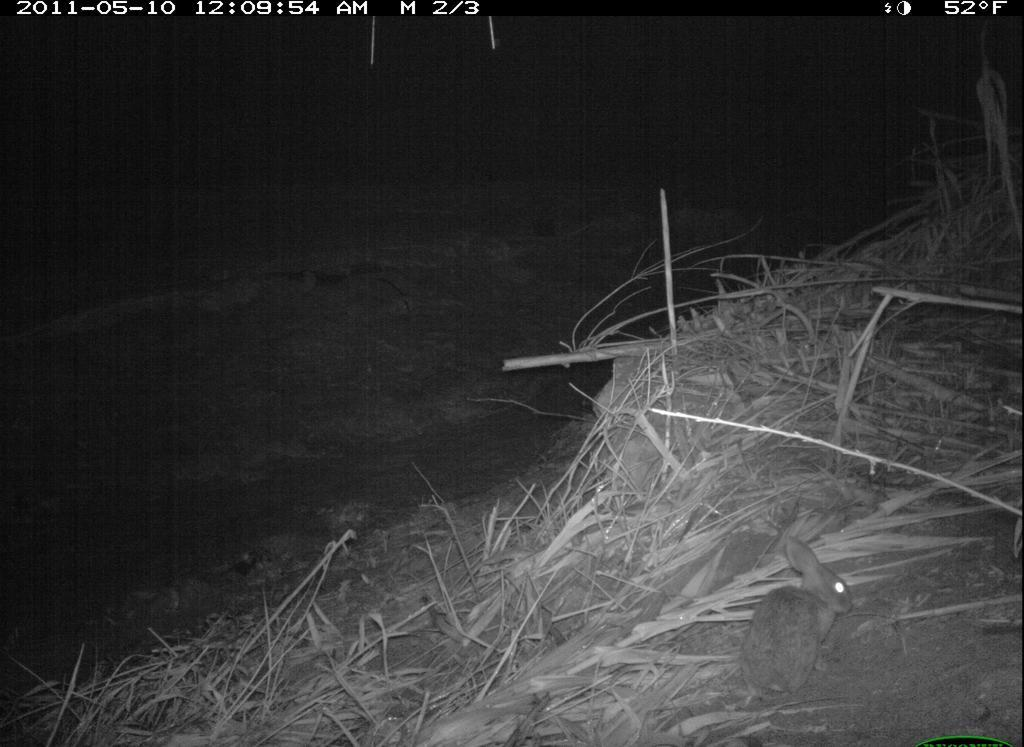rabbit: (728, 533, 856, 712)
